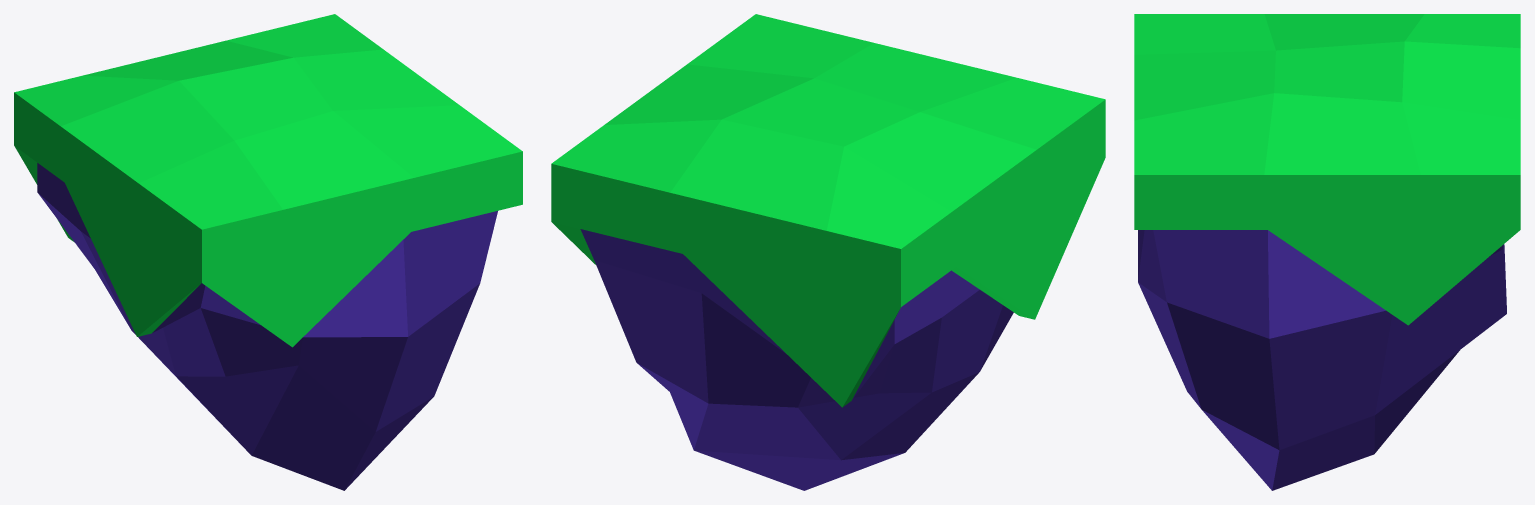
Rendered from ground4.fbx.
The picture shows the model from 3 angles, left to right: view 1: azimuth 30°, elevation 25°; view 2: azimuth 150°, elevation 25°; view 3: azimuth 270°, elevation 25°; orthographic projection. The views are drawn at different scales.
Parts seen in each view (by area): view 1: BezierCurve.004; view 2: BezierCurve.004; view 3: BezierCurve.004.
Boxes of the visible parts, x1=… form: BezierCurve.004: x1=14, y1=14, x2=522, y2=490; BezierCurve.004: x1=551, y1=14, x2=1105, y2=490; BezierCurve.004: x1=1134, y1=14, x2=1520, y2=490.
Size of the model in its own units: 477 by 551 by 484.
